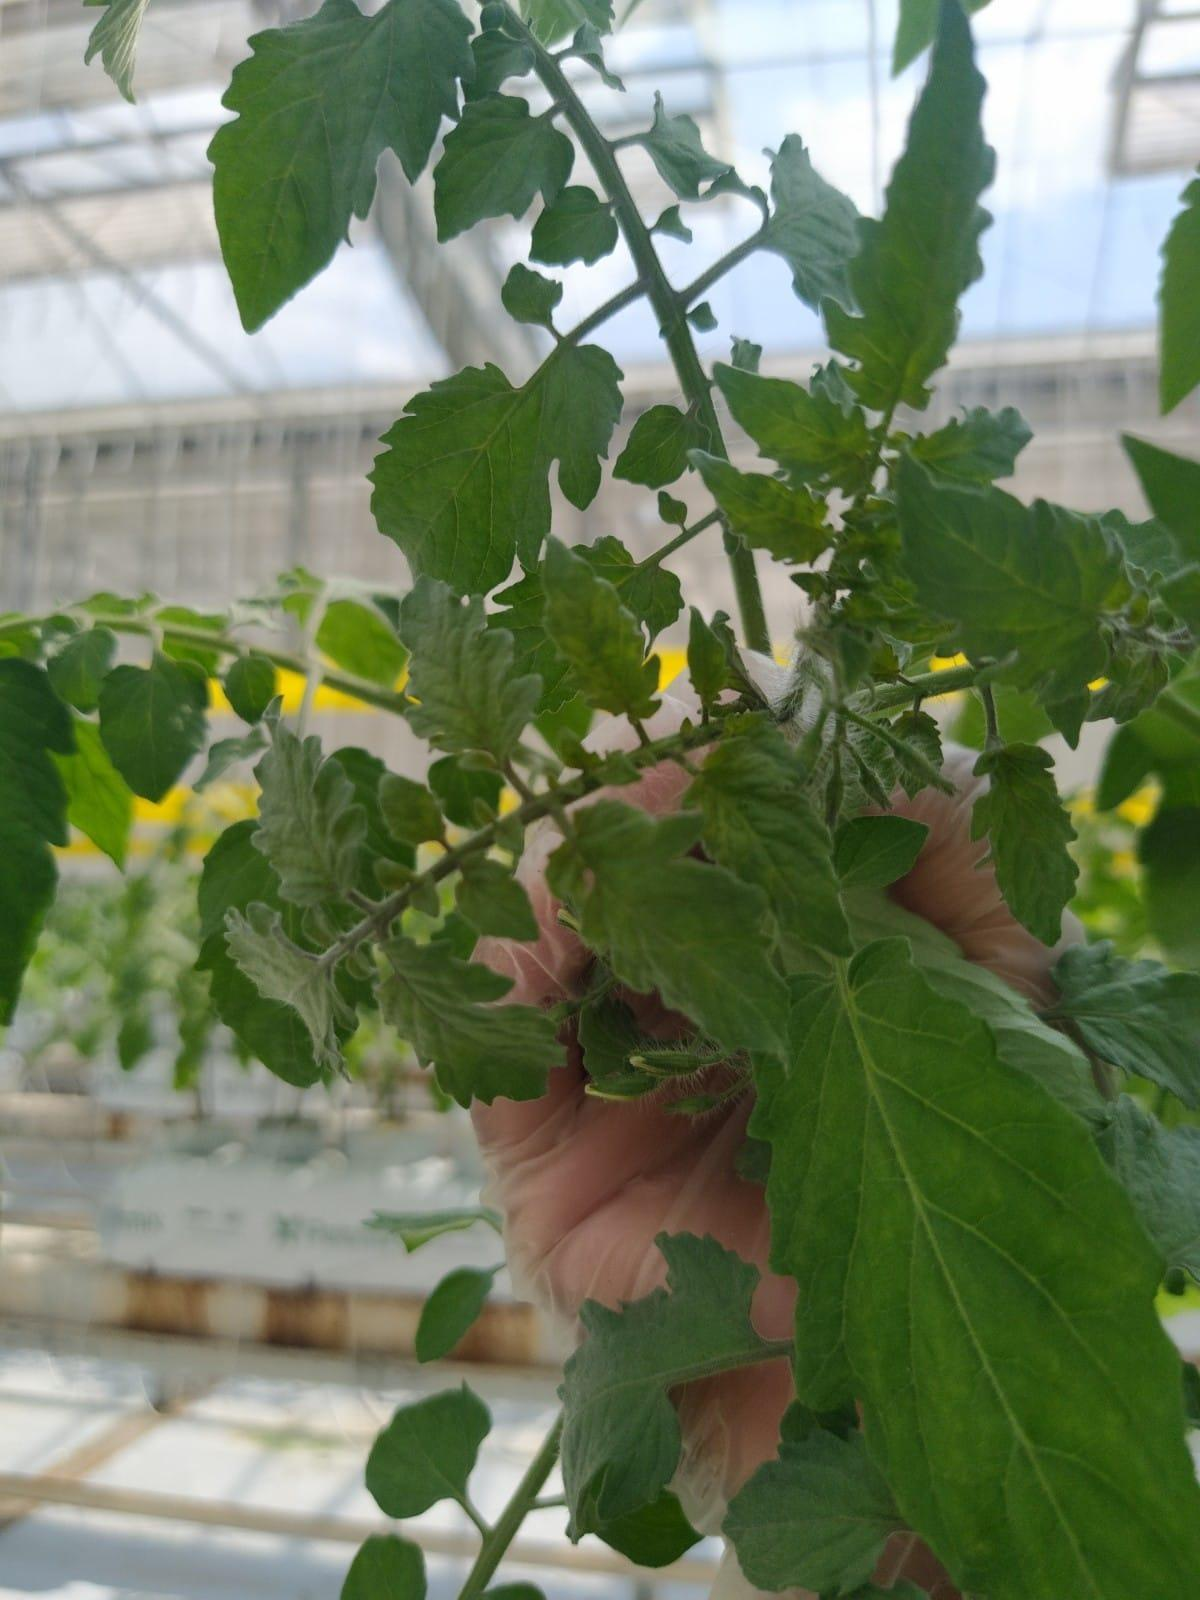Hoja: (768, 941, 1199, 1599), (209, 0, 471, 331), (560, 1235, 788, 1566), (372, 365, 550, 593), (722, 1425, 903, 1594), (100, 653, 209, 800), (541, 344, 621, 509), (613, 406, 710, 488)
Hoja rugoso: (824, 0, 993, 416), (547, 800, 788, 1053), (897, 456, 1131, 703), (684, 719, 850, 954), (378, 937, 562, 1106), (400, 578, 541, 762), (224, 903, 357, 1072), (541, 538, 659, 719), (972, 743, 1078, 944), (253, 724, 366, 906), (716, 363, 872, 490), (691, 450, 831, 562)
